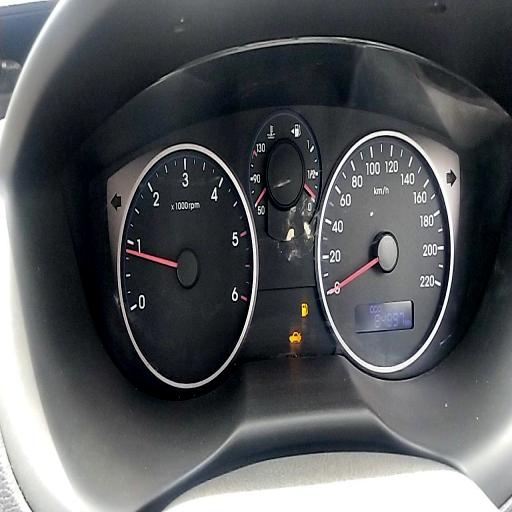tachometer: (116, 140, 258, 391)
